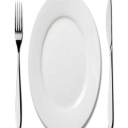Fork: (8, 1, 29, 128)
